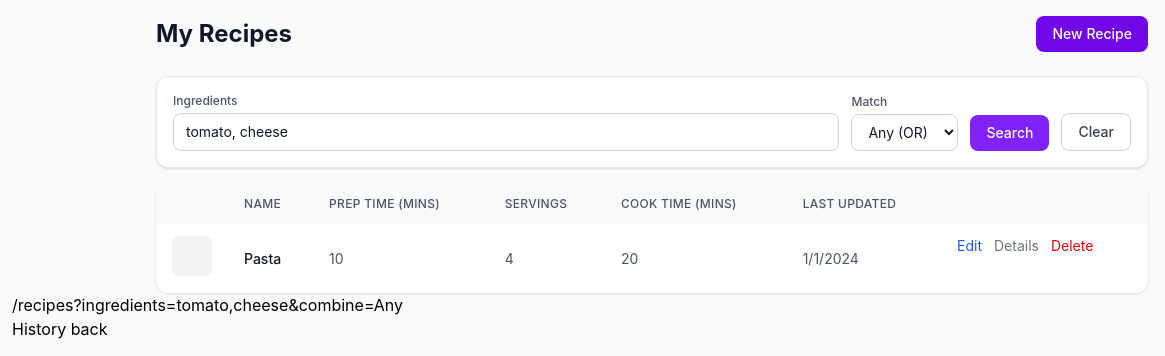
Test: RecipeList › removes the query and loads every recipe when Clear is clicked
What coordinates should you click on to do the following:
click the button "Clear"
I would click on:
 (1096, 132)
Its box is x1=1062 y1=113 x2=1131 y2=151.
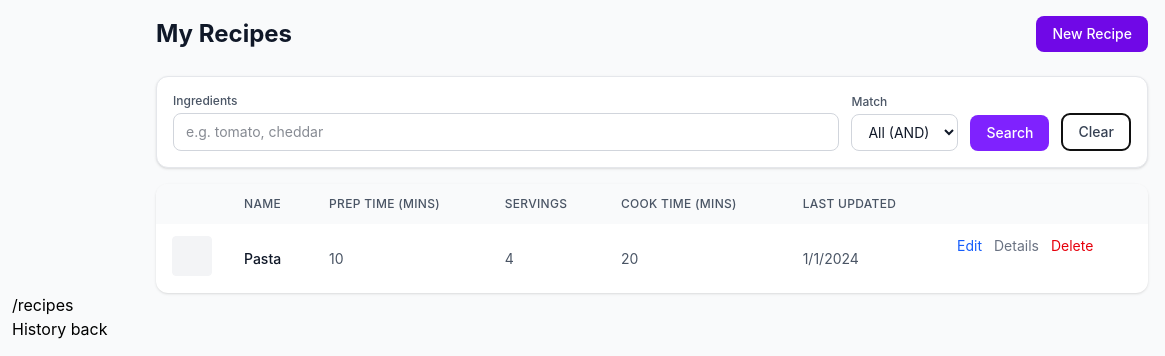
Expected: the text with test id "location" reads "/recipes", x1=12 y1=295 x2=73 y2=315
Result: the field labelled "Ingredients" is empty at x1=173 y1=113 x2=840 y2=151
Result: the dropdown labelled "Match" shows "All (AND)" at x1=852 y1=114 x2=958 y2=151
